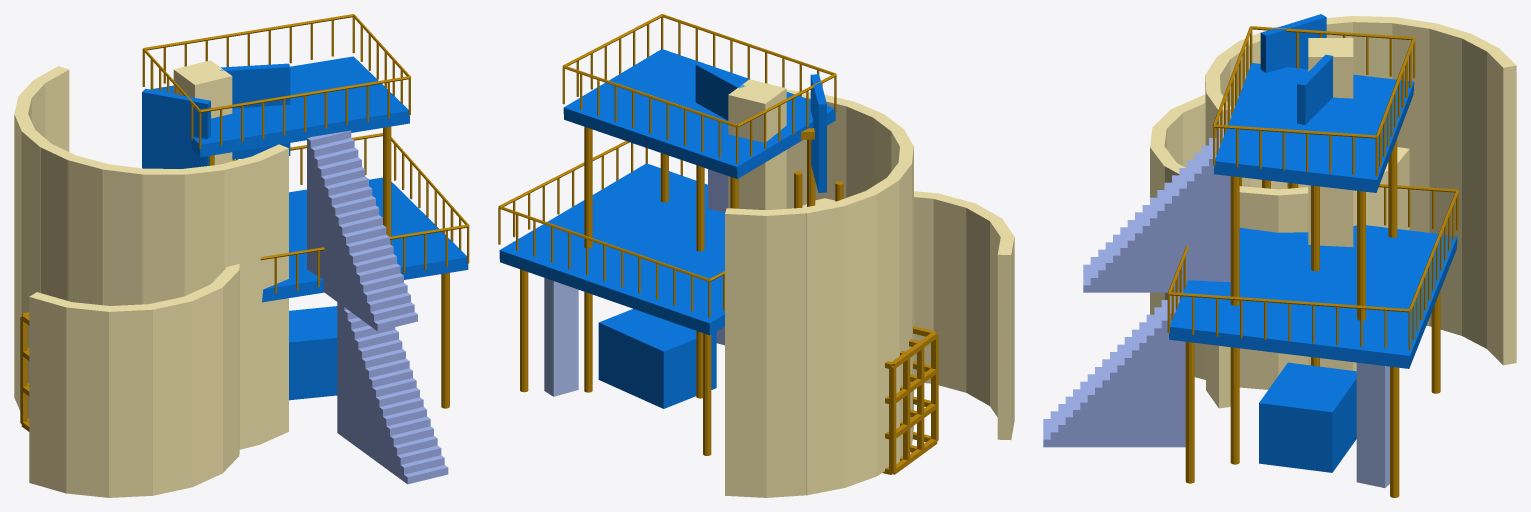
File: folie_tag_008.glb
3 renders of one model, left to right at view 1: azimuth 30°, elevation 25°; view 2: azimuth 150°, elevation 25°; view 3: azimuth 270°, elevation 25°, orthographic. The views are drawn at different scales.
Visible parts, largest first — view 1: folie_tag_008_01_curve, folie_tag_008_03_curve, folie_tag_008_stairs, folie_tag_008_line, folie_tag_008_02_plate, folie_tag_008_00_plate, folie_tag_008_06_panel, folie_tag_008_05_block, folie_tag_008_08_panel, folie_tag_008_core, folie_tag_008_04_cage; view 2: folie_tag_008_01_curve, folie_tag_008_00_plate, folie_tag_008_03_curve, folie_tag_008_line, folie_tag_008_02_plate, folie_tag_008_05_block, folie_tag_008_core, folie_tag_008_04_cage, folie_tag_008_07_fin, folie_tag_008_06_panel, folie_tag_008_08_panel, folie_tag_008_stairs; view 3: folie_tag_008_01_curve, folie_tag_008_stairs, folie_tag_008_00_plate, folie_tag_008_line, folie_tag_008_02_plate, folie_tag_008_03_curve, folie_tag_008_05_block, folie_tag_008_core, folie_tag_008_07_fin, folie_tag_008_06_panel, folie_tag_008_08_panel.
Boxes of the visible parts, box(x1,y1,x2,y2) form: folie_tag_008_01_curve: box(14, 66, 288, 449); folie_tag_008_03_curve: box(29, 264, 239, 497); folie_tag_008_stairs: box(307, 130, 448, 484); folie_tag_008_line: box(142, 14, 469, 408); folie_tag_008_02_plate: box(150, 56, 409, 157); folie_tag_008_00_plate: box(262, 177, 468, 302); folie_tag_008_06_panel: box(142, 88, 210, 168); folie_tag_008_05_block: box(289, 306, 337, 400); folie_tag_008_08_panel: box(220, 63, 290, 159); folie_tag_008_core: box(173, 60, 232, 165); folie_tag_008_04_cage: box(20, 312, 29, 431); folie_tag_008_01_curve: box(725, 90, 913, 497); folie_tag_008_00_plate: box(499, 163, 724, 335); folie_tag_008_03_curve: box(802, 191, 1014, 439); folie_tag_008_line: box(498, 14, 843, 455); folie_tag_008_02_plate: box(563, 49, 835, 178); folie_tag_008_05_block: box(598, 309, 716, 408); folie_tag_008_core: box(728, 79, 786, 210); folie_tag_008_04_cage: box(882, 326, 938, 474); folie_tag_008_07_fin: box(544, 278, 578, 396); folie_tag_008_06_panel: box(810, 74, 826, 192); folie_tag_008_08_panel: box(695, 62, 745, 120); folie_tag_008_stairs: box(708, 169, 728, 345); folie_tag_008_01_curve: box(1205, 16, 1516, 408); folie_tag_008_stairs: box(1043, 123, 1230, 447); folie_tag_008_00_plate: box(1169, 225, 1457, 368); folie_tag_008_line: box(1167, 26, 1458, 497); folie_tag_008_02_plate: box(1214, 63, 1414, 192); folie_tag_008_03_curve: box(1150, 95, 1409, 389); folie_tag_008_05_block: box(1259, 362, 1356, 472); folie_tag_008_core: box(1308, 38, 1353, 370); folie_tag_008_07_fin: box(1356, 362, 1389, 487); folie_tag_008_06_panel: box(1260, 14, 1326, 72); folie_tag_008_08_panel: box(1297, 54, 1333, 124).
Bounding box in the file's own units: 12.92 × 9.33 × 11.53.
